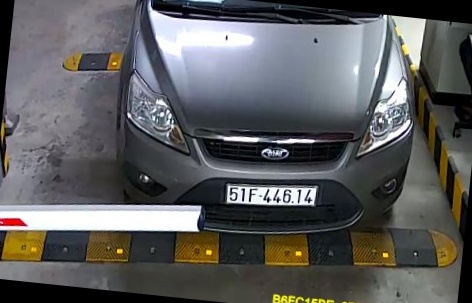plate: (225, 176, 317, 212)
